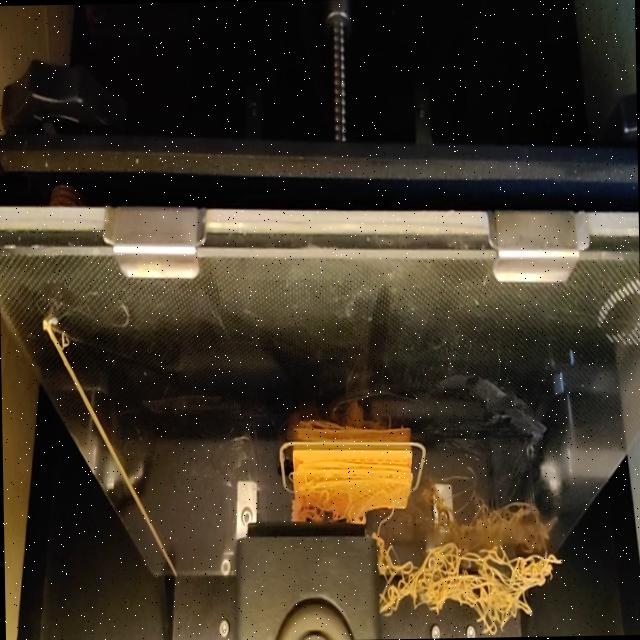spaghetti: (377, 542, 564, 636), (286, 488, 396, 523)
